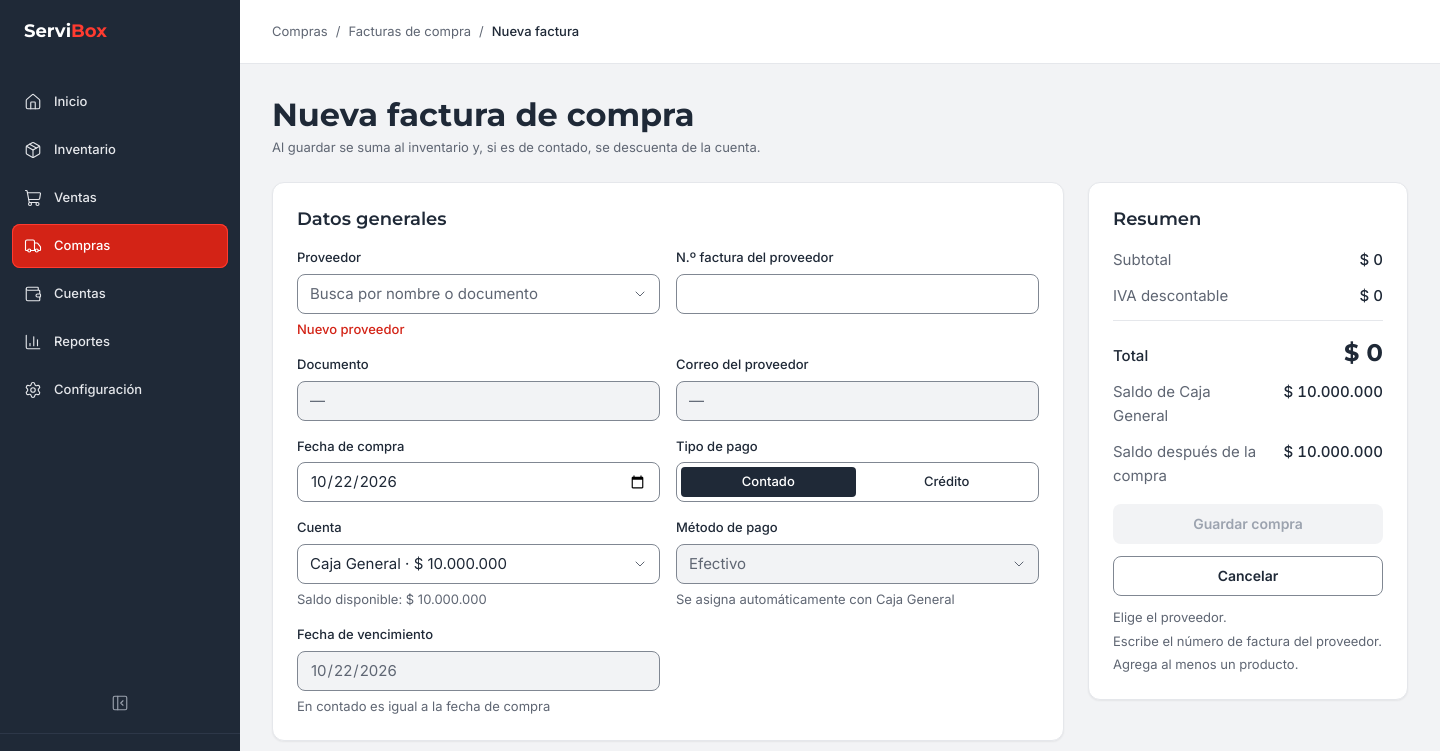
nueva factura de compra › una cuenta de banco ofrece Transferencia y Cheque
expect the heading "Nueva factura de compra" is shown: met, box [272,95,694,134]
Select "Bancolombia · $ 5.000.000" in the dropdown labelled "Cuenta" at (478, 564), box [297,544,660,584]
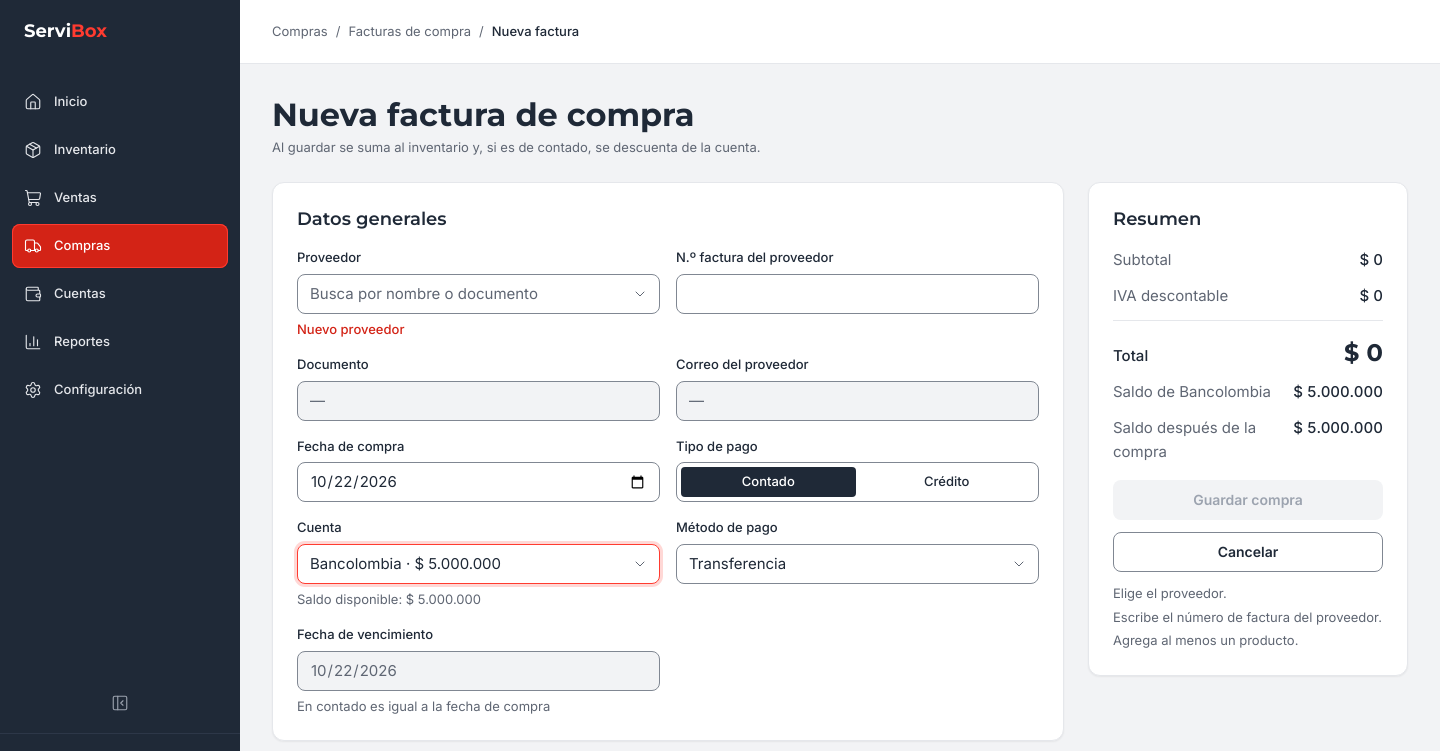
expect the dropdown labelled "Método de pago" is enabled: met, box [676,544,1039,584]
expect the dropdown labelled "Método de pago" shows "Transferencia": met, box [676,544,1039,584]
